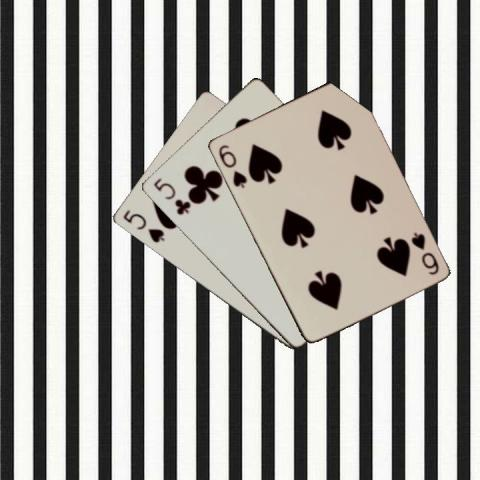5c: (150, 174, 191, 216)
5s: (119, 206, 166, 244)
6s: (214, 142, 248, 190), (407, 229, 440, 276)
